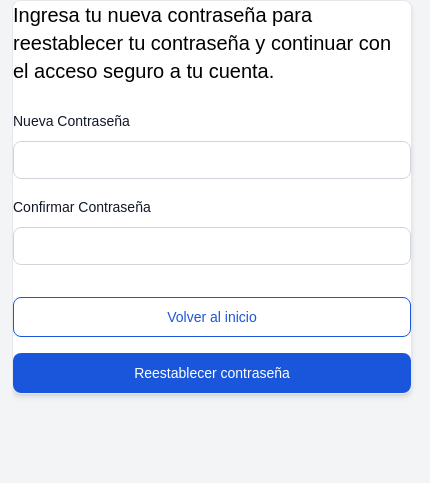
Test: ResetPasswordCard › Form Validation › Given a user entering a short password, show error validation
The image size is (430, 483).
Type "1234" into the password field with test id "password" at (212, 160), box [13, 141, 411, 179]
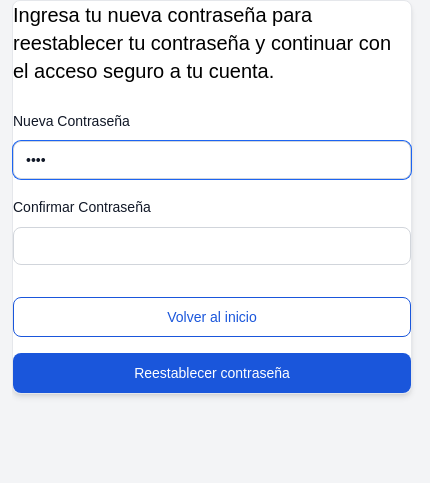
Click the button "Reestablecer contraseña" at (212, 373), box [13, 353, 411, 393]
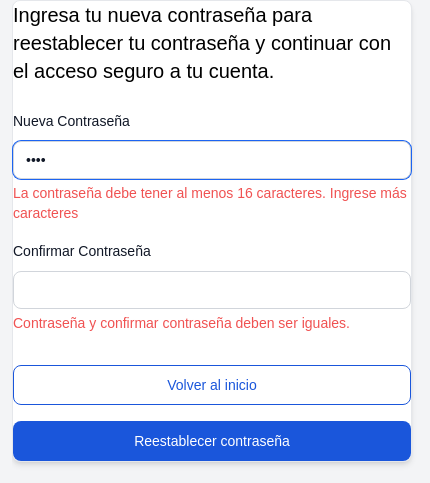
Expected: the text "La contraseña debe tener al menos 16 caracteres. Ingrese más caracteres" is shown, [13, 183, 411, 223]
